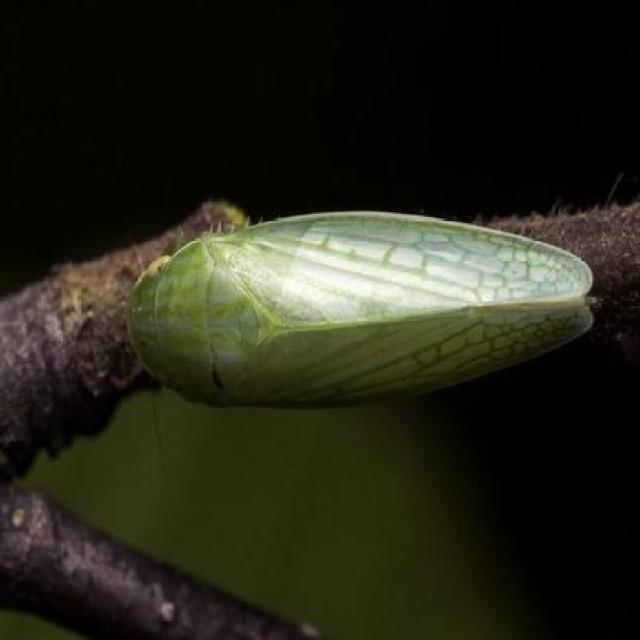green-leafhopper: (129, 210, 593, 413)
